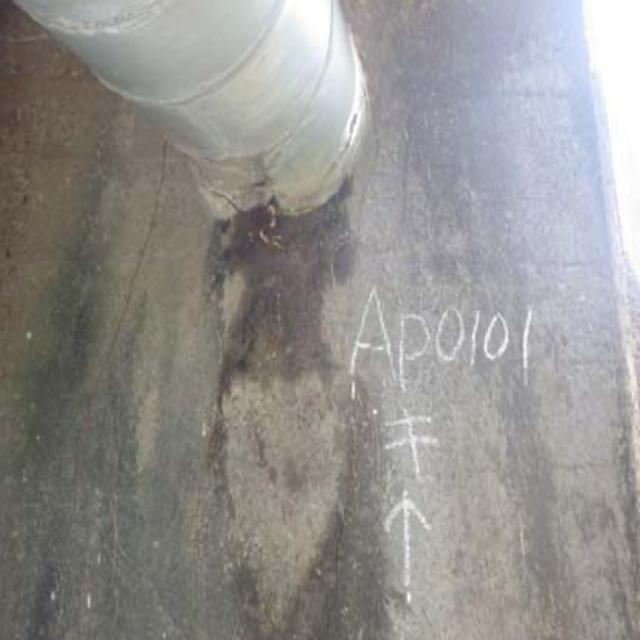leakage: (199, 175, 394, 624)
